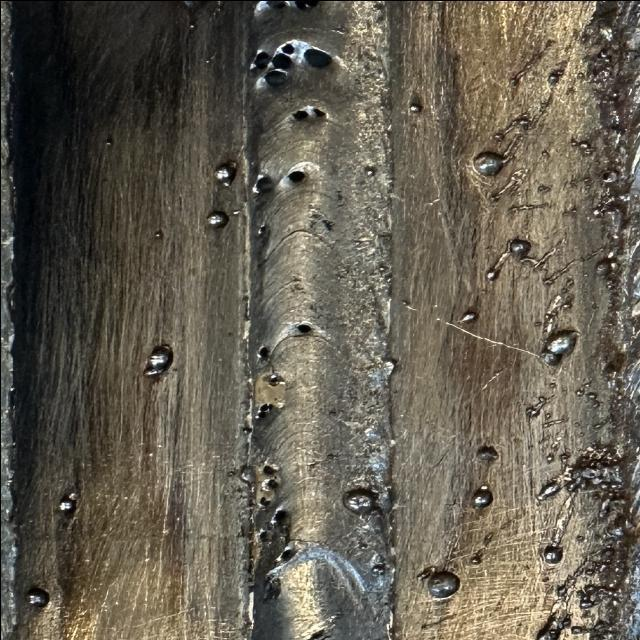Excess Reinforcement: (555, 446, 622, 492), (247, 592, 253, 629)
Porosity: (303, 48, 332, 68), (263, 69, 287, 86), (270, 52, 292, 69), (252, 51, 272, 69), (277, 546, 297, 564), (252, 175, 273, 192), (263, 579, 280, 600), (257, 0, 293, 8), (270, 510, 287, 525), (256, 403, 272, 418), (293, 0, 318, 9), (308, 629, 328, 640), (265, 575, 280, 589), (267, 372, 282, 386), (287, 170, 303, 182), (262, 478, 277, 489), (262, 464, 277, 475), (292, 110, 308, 120), (280, 42, 293, 54), (308, 108, 325, 116), (295, 323, 310, 332), (258, 496, 268, 506), (258, 531, 268, 541), (257, 226, 265, 235)
Spatters: (533, 279, 573, 332), (542, 249, 600, 285), (508, 45, 548, 88), (488, 168, 527, 202), (540, 330, 575, 365), (342, 488, 382, 515), (532, 238, 565, 269), (492, 115, 530, 141), (529, 89, 553, 129), (485, 243, 510, 281), (536, 614, 570, 640), (144, 344, 172, 375), (427, 571, 458, 598), (472, 151, 505, 176), (525, 397, 552, 420), (592, 48, 612, 79), (470, 485, 492, 508), (213, 162, 235, 185), (535, 481, 560, 500), (508, 238, 530, 259), (57, 492, 77, 515), (25, 588, 48, 606), (205, 211, 228, 228), (542, 545, 562, 564), (475, 446, 498, 461), (508, 202, 548, 210), (238, 465, 255, 482), (415, 566, 435, 580), (547, 69, 563, 85), (595, 258, 610, 275), (598, 23, 613, 40), (578, 594, 595, 609), (600, 169, 618, 182), (585, 391, 600, 406), (577, 140, 593, 154), (383, 358, 397, 374), (458, 311, 477, 322), (468, 551, 482, 565), (555, 584, 567, 600), (542, 419, 563, 428), (370, 562, 385, 574), (210, 1, 223, 14), (408, 100, 422, 112), (482, 532, 493, 546), (583, 584, 597, 595), (570, 625, 587, 634), (257, 346, 268, 359), (363, 165, 375, 176), (585, 569, 600, 576), (537, 184, 550, 192), (565, 178, 577, 186), (240, 426, 252, 434), (543, 411, 552, 420), (575, 534, 585, 542), (383, 273, 390, 284), (153, 231, 162, 239), (610, 91, 618, 100), (577, 71, 587, 78), (545, 454, 553, 462), (358, 542, 367, 549), (103, 137, 112, 144), (188, 21, 195, 29), (540, 149, 548, 156), (575, 389, 583, 396), (582, 382, 590, 389), (572, 422, 580, 429), (578, 432, 585, 436), (203, 58, 210, 62)
